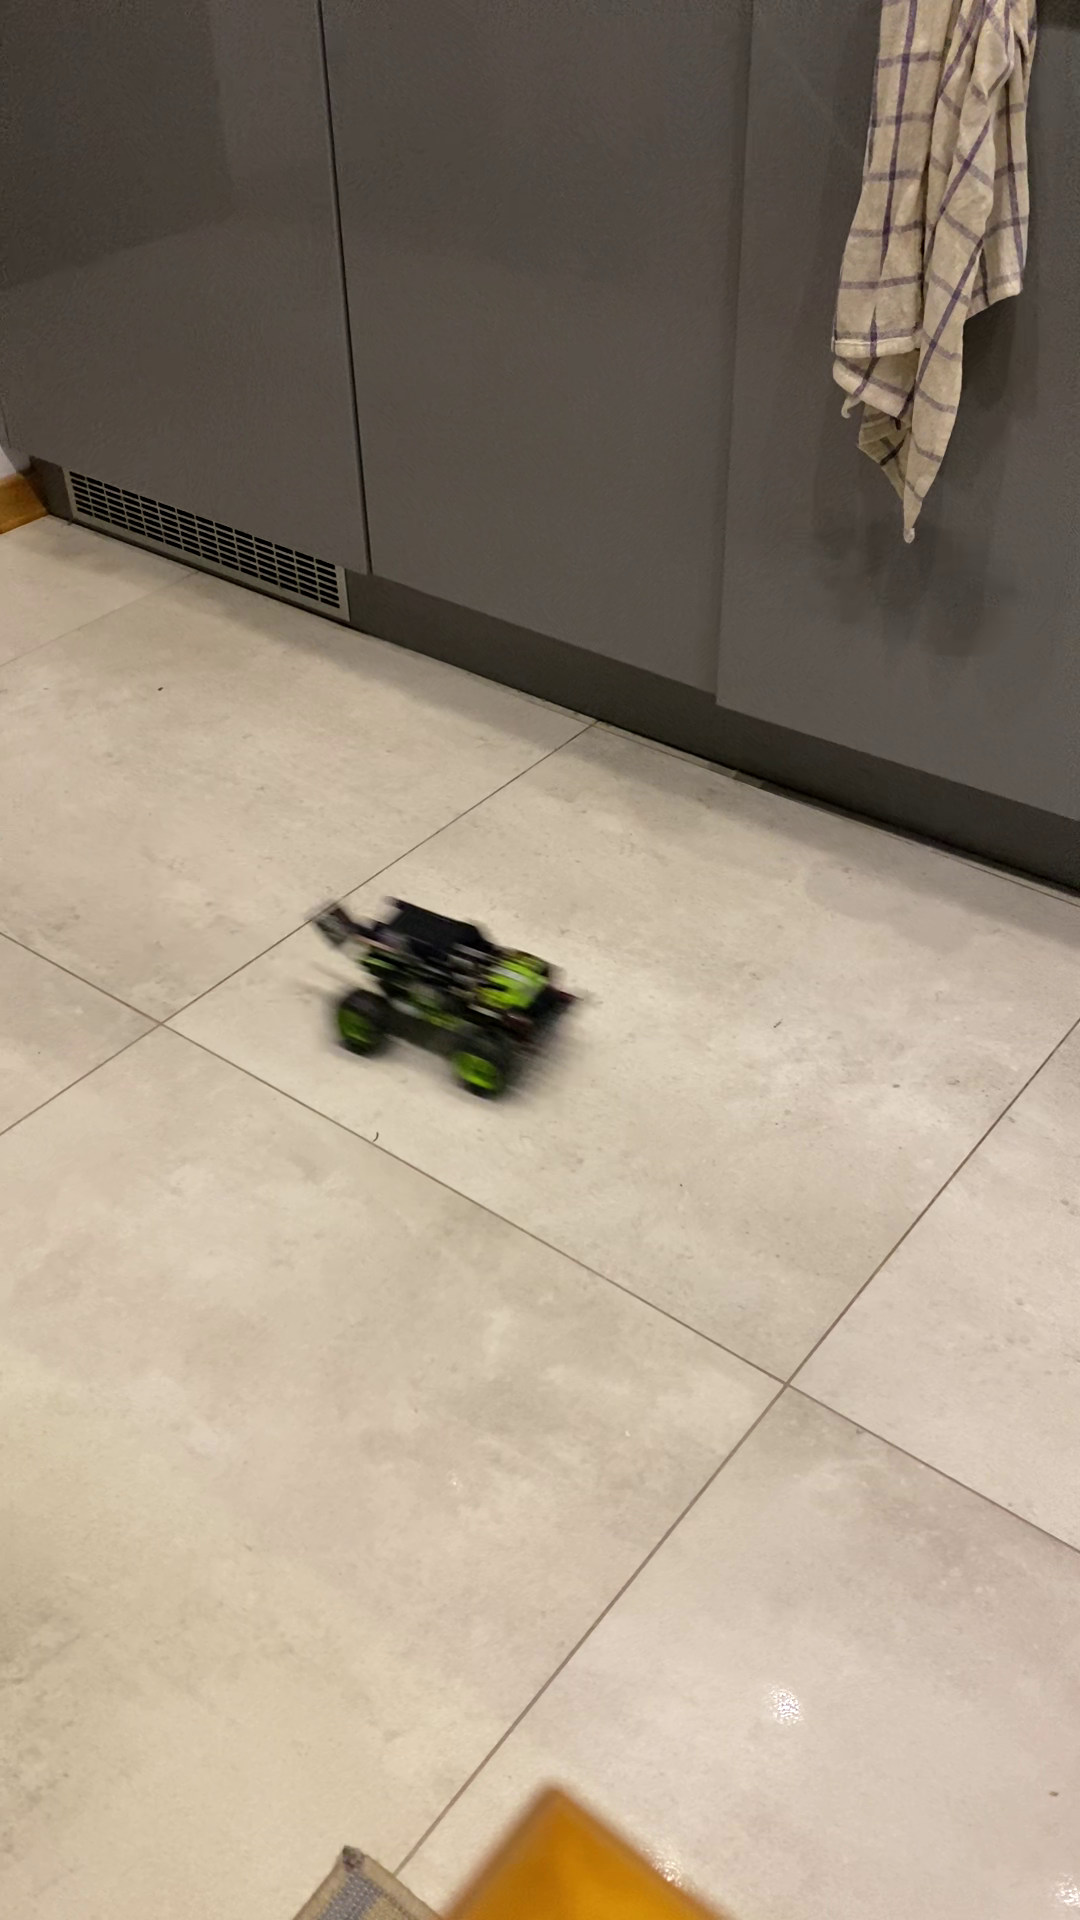car: (330, 891, 570, 1104)
